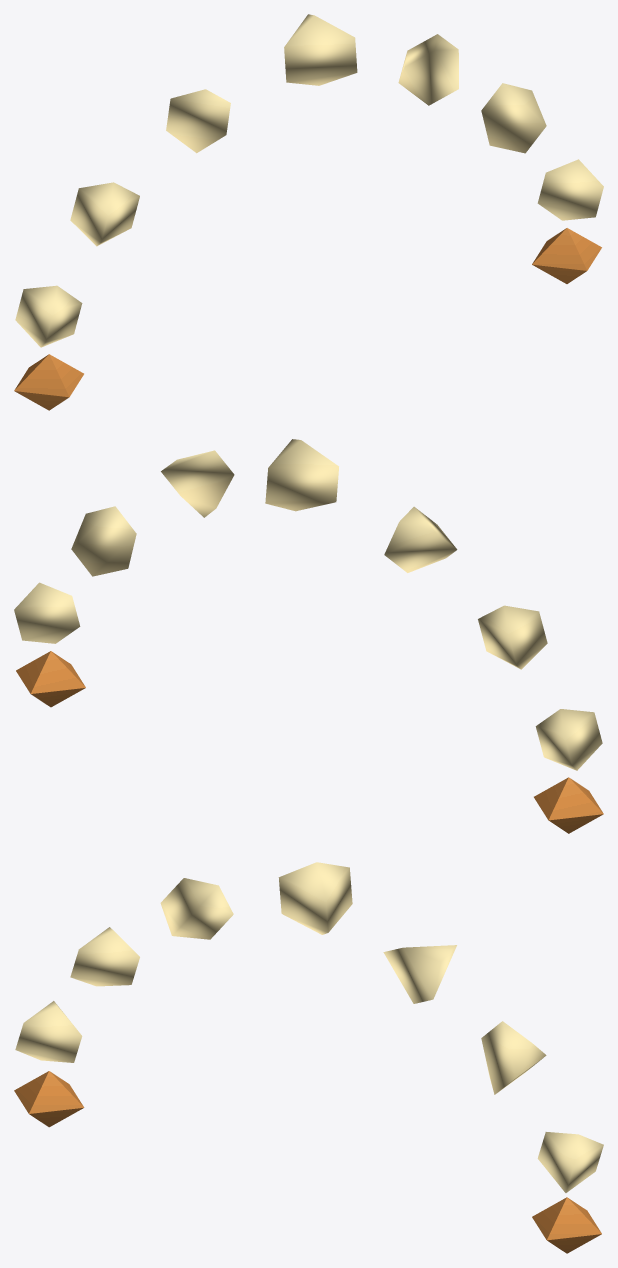
File: Prop_LightFence_Persistent.glb
3 views of the same model, one above another, from view 1: azimuth 30°, elevation 25°; view 2: azimuth 150°, elevation 25°; view 3: azimuth 330°, elevation 25° (orthographic).
Parts seen in each view (by area): view 1: Prop_LightFence_Persistent; view 2: Prop_LightFence_Persistent; view 3: Prop_LightFence_Persistent.
Boxes of the visible parts, x1=… form: Prop_LightFence_Persistent: x1=14, y1=14, x2=603, y2=410; Prop_LightFence_Persistent: x1=14, y1=439, x2=603, y2=833; Prop_LightFence_Persistent: x1=14, y1=862, x2=603, y2=1253.
Bounding box in the file's own units: 3.21 × 1.72 × 0.4166.
Materials: 1 (1 with a texture image).
